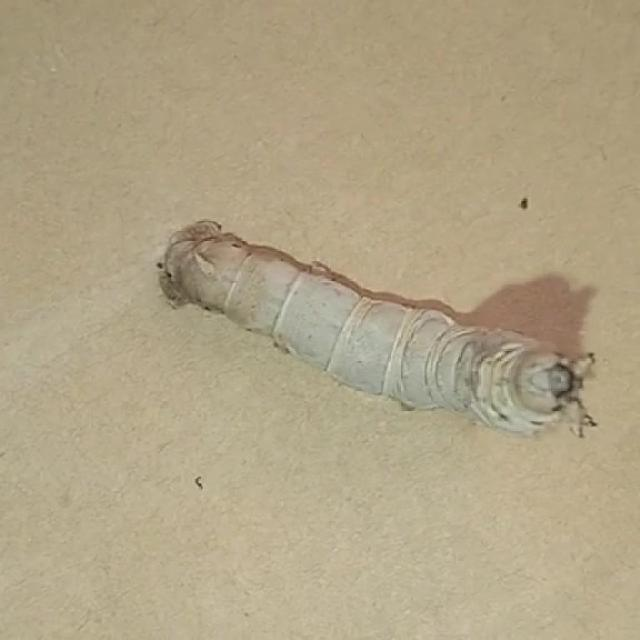Grasserie: (141, 141, 614, 479)
